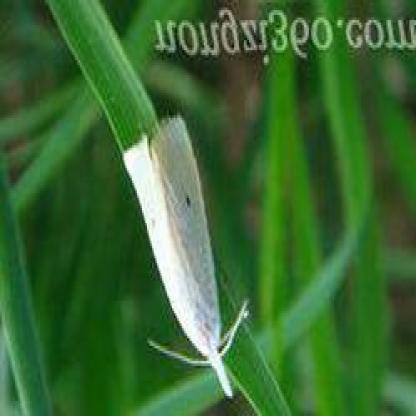stem-borer: (114, 106, 253, 406)
